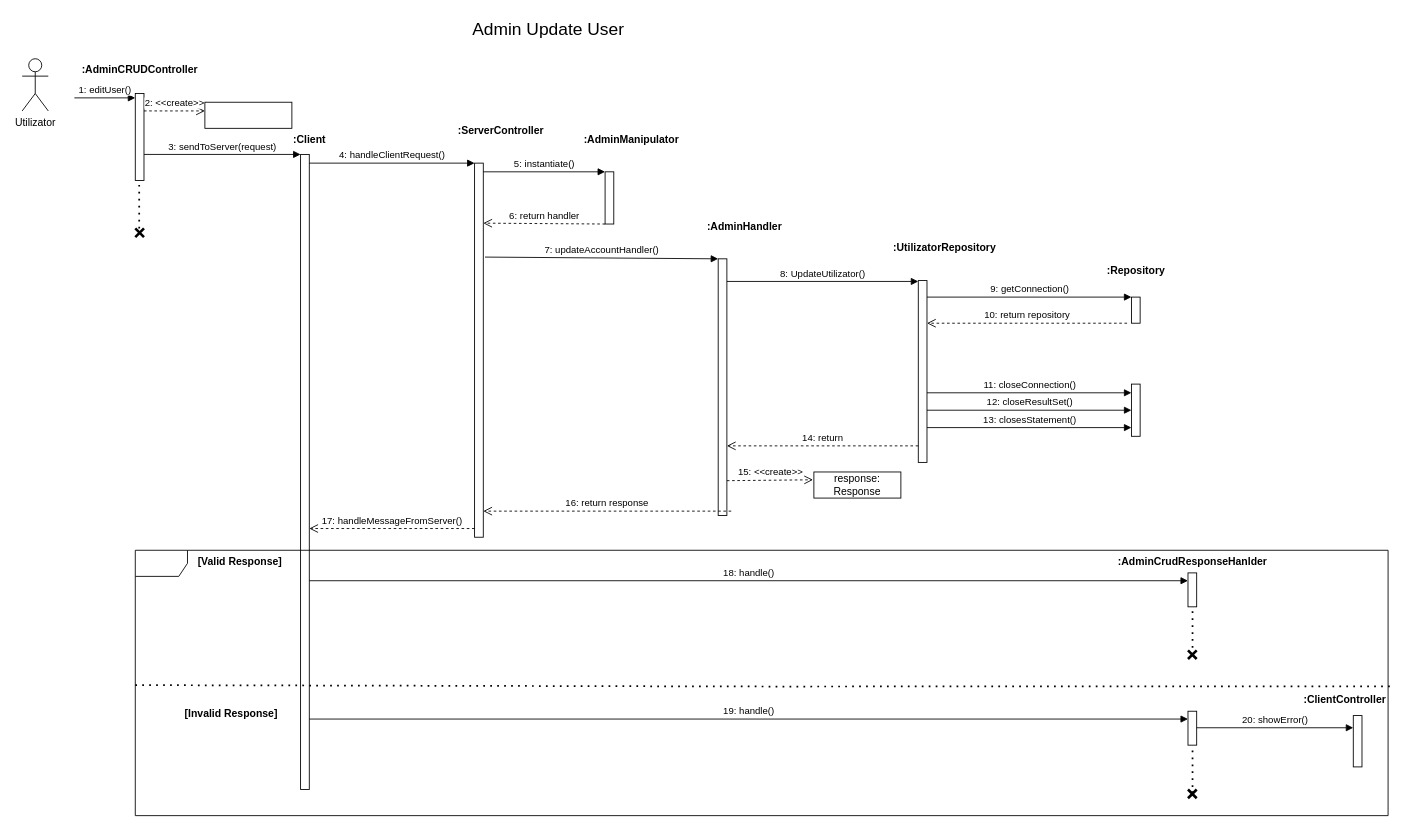
This 1408x831 diagram has some shape labels left out. The box of each missing label's shape, as (x1, y1, x2, y2) in pixels:
alt: (134, 549, 1388, 816)
request:Request: (204, 101, 292, 128)
